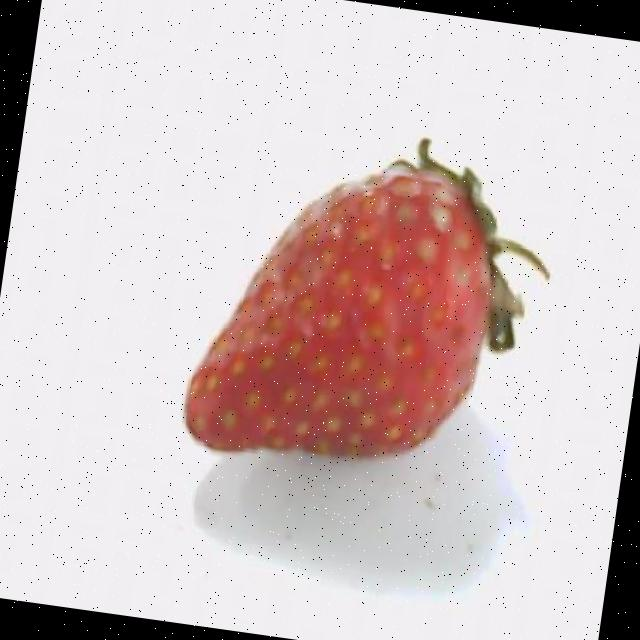strawberry: (188, 139, 549, 457)
